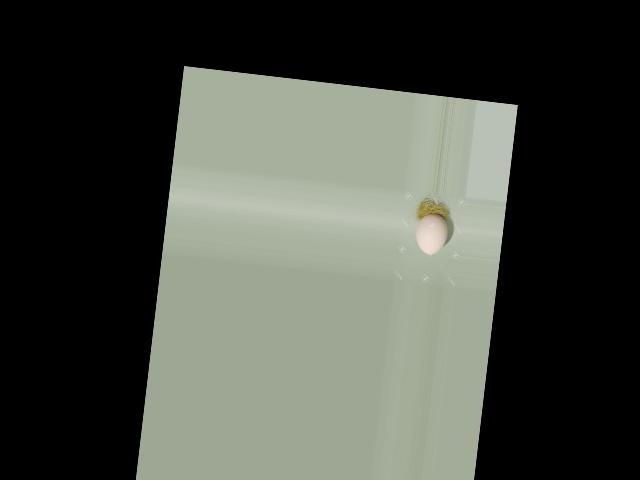egg: (414, 212, 449, 256)
